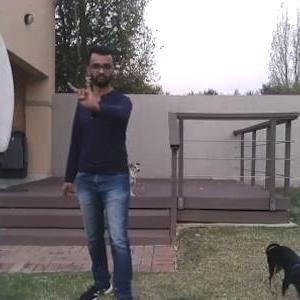takeoff-hand: (63, 65, 104, 116)
